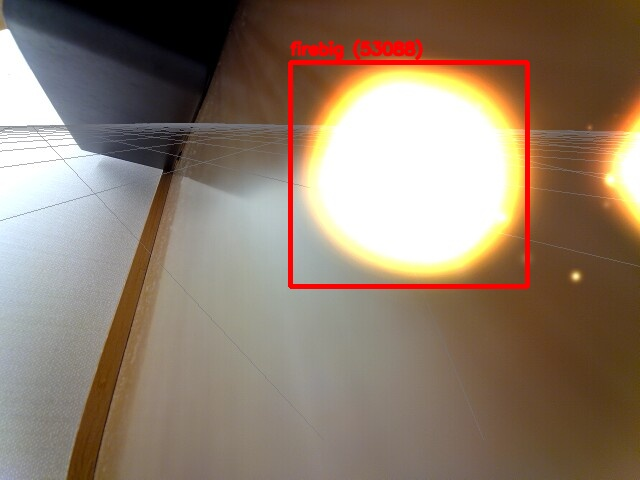firebig: (290, 62, 527, 286)
